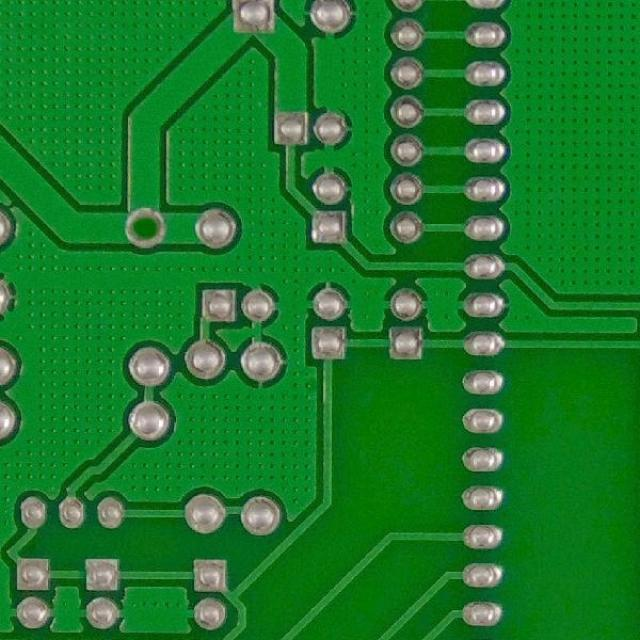missing_hole: (124, 204, 168, 250)
